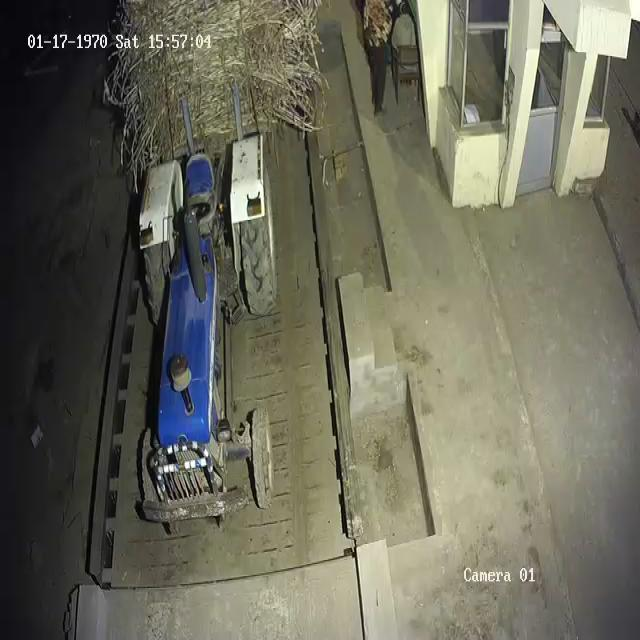Tratores - v5 YOLO V8L 2024-11-13: (128, 142, 286, 544)
